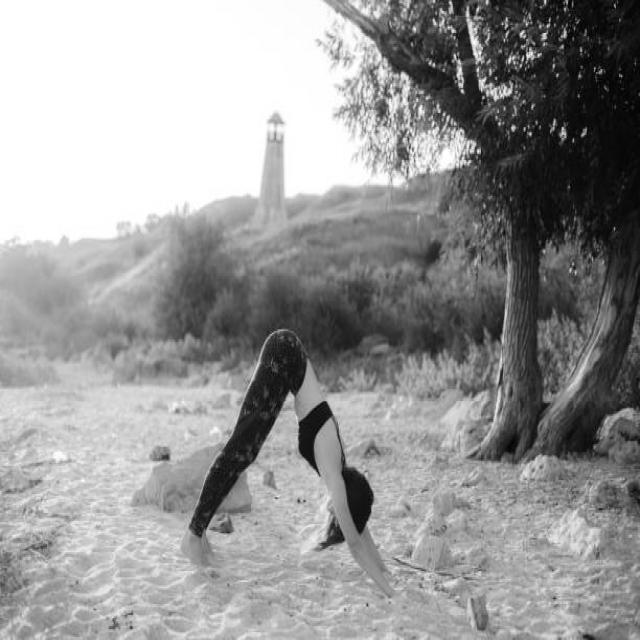Downward-Facing_Dog: (171, 321, 441, 607)
